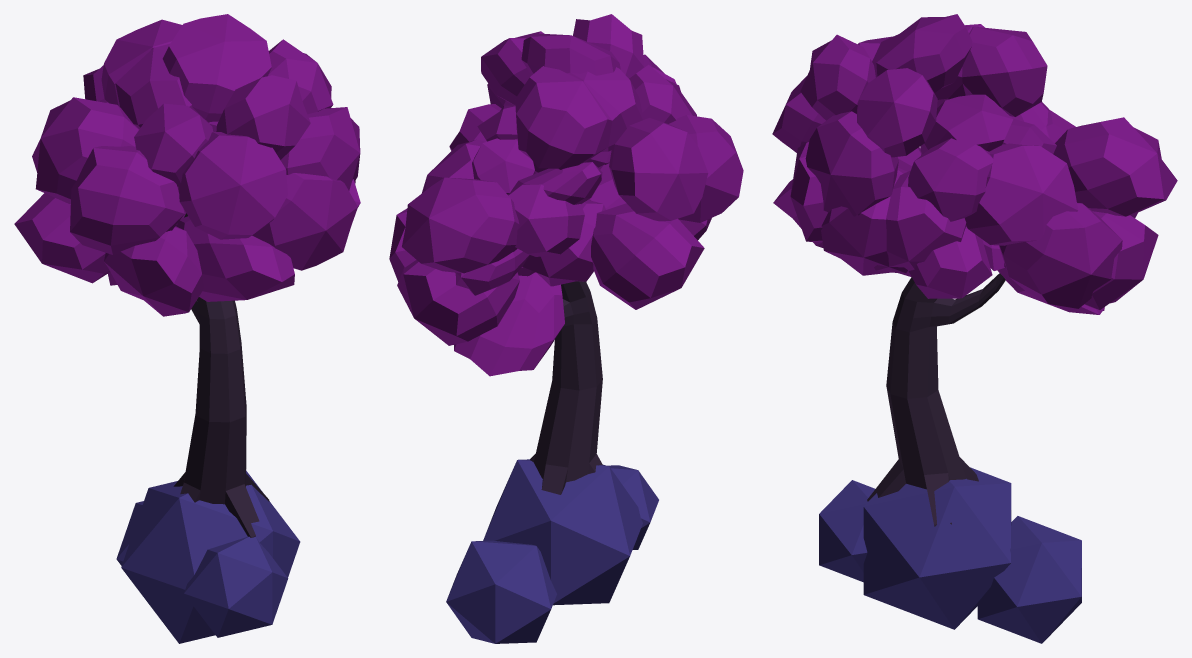
Rendered from treecoloredfbx.fbx.
The picture shows the model from 3 angles, left to right: view 1: azimuth 30°, elevation 25°; view 2: azimuth 150°, elevation 25°; view 3: azimuth 270°, elevation 25°; orthographic projection. The views are drawn at different scales.
Parts seen in each view (by area): view 1: polySurface17; view 2: polySurface17; view 3: polySurface17.
Boxes of the visible parts, <box> form: polySurface17: <box>14,14,360,643</box>; polySurface17: <box>389,14,743,643</box>; polySurface17: <box>772,14,1177,643</box>.
Size of the model in its own units: 2800 by 5659 by 3461.
